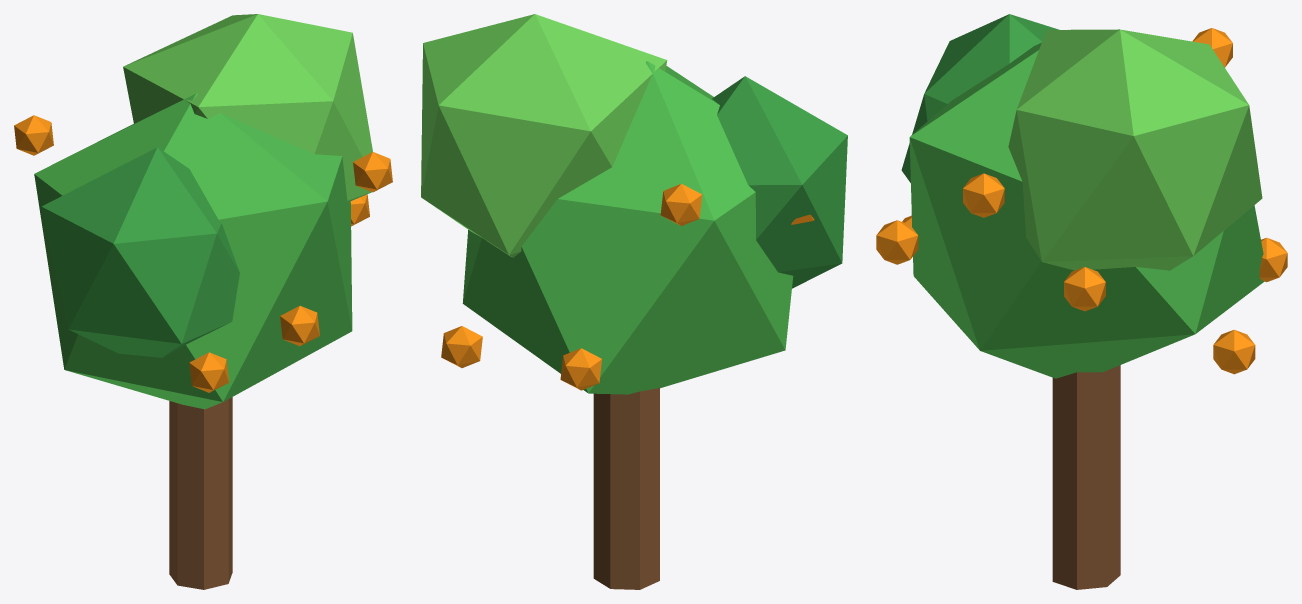
The model's file is TangerineTree.fbx.
3 renders of one model, left to right at view 1: azimuth 30°, elevation 25°; view 2: azimuth 150°, elevation 25°; view 3: azimuth 270°, elevation 25°, orthographic. The views are drawn at different scales.
Visible parts, largest first — view 1: TangerineTree; view 2: TangerineTree; view 3: TangerineTree.
Part boxes in pixels (left/top/right/bottom): TangerineTree: left=14, top=14, right=392, bottom=589; TangerineTree: left=421, top=14, right=847, bottom=589; TangerineTree: left=876, top=14, right=1287, bottom=589.
Bounding box in the file's own units: 9.7 × 14.39 × 9.18.
1 material, 1 textured.
